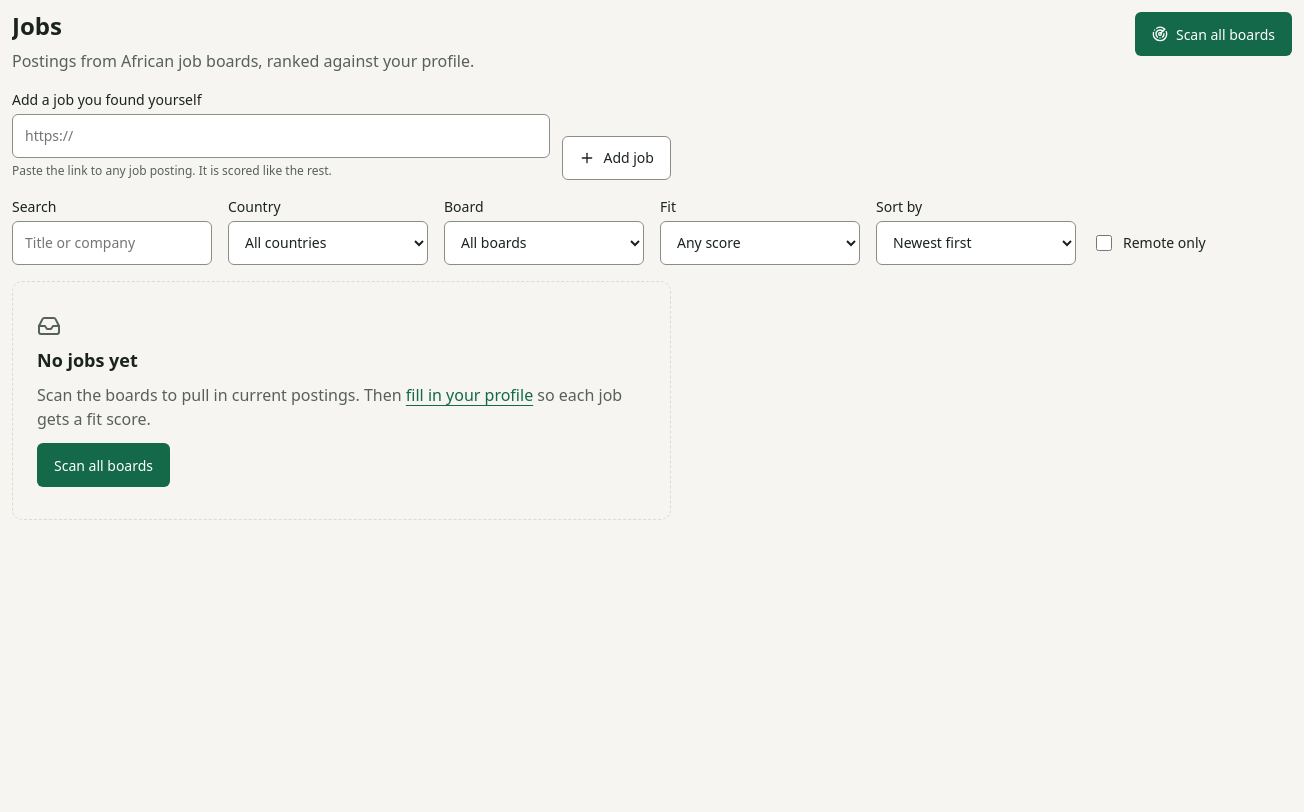
Test case: JobsPage › scans all boards and reports new jobs and boards that failed
Click the 1st button "Scan all boards": (1214, 34) [1135,12,1292,56]
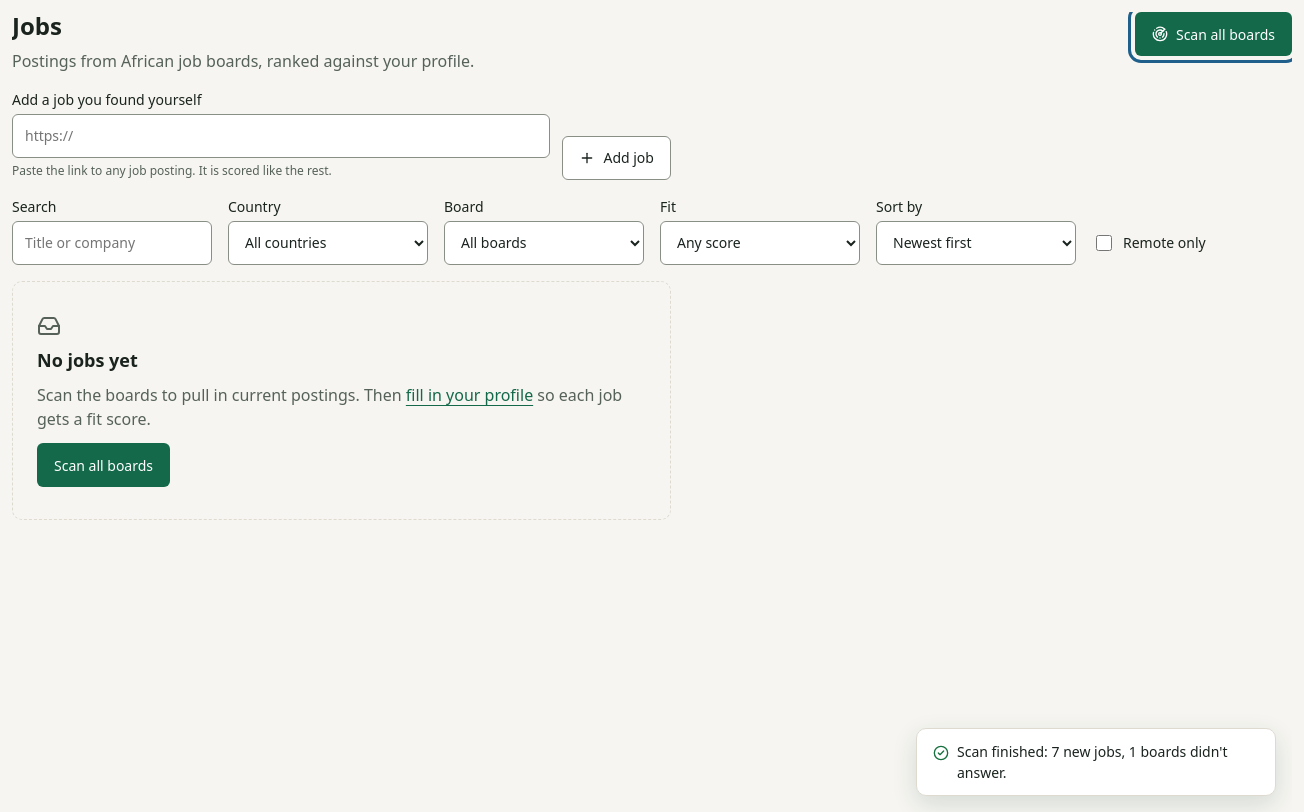
Now the text "Scan finished: 7 new jobs, 1 boards didn't answer." is shown, box [957,741,1259,783]
